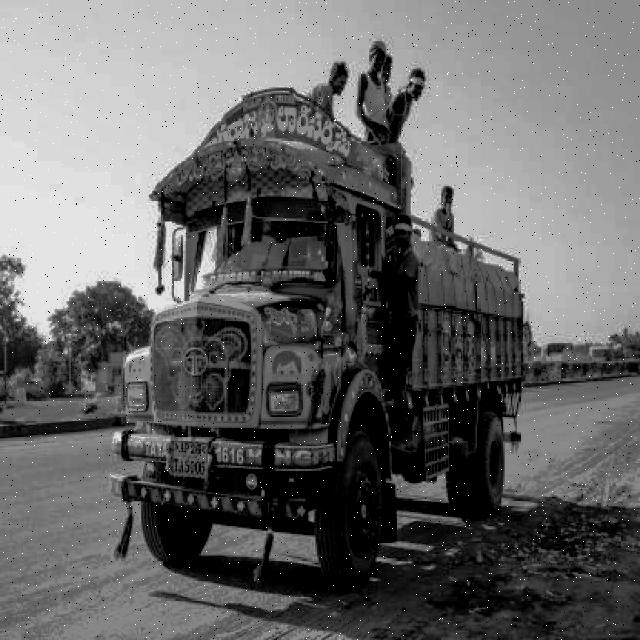HCV: (135, 118, 522, 504)
